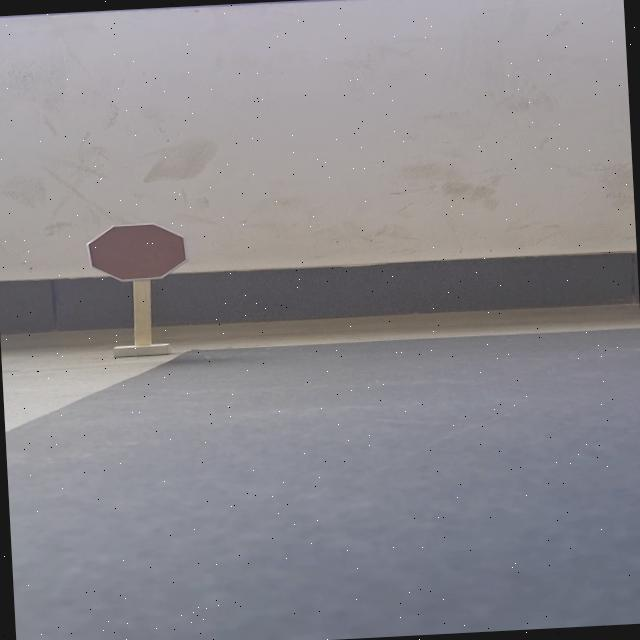Stop: (85, 221, 190, 284)
